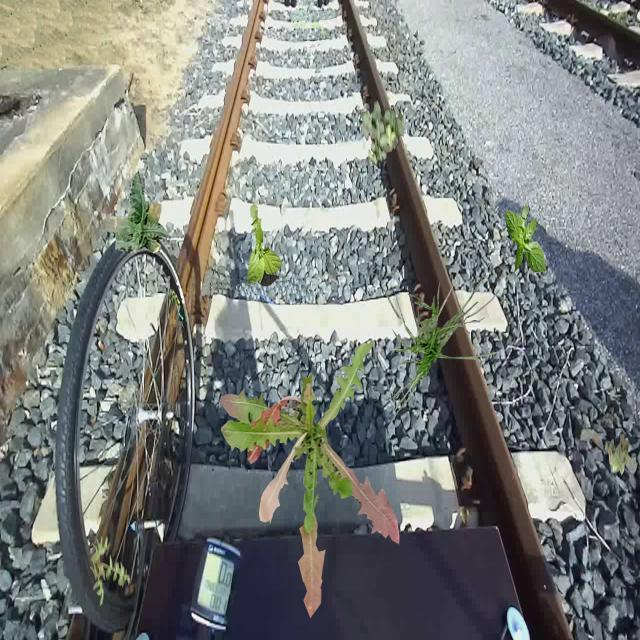Plant: (220, 341, 400, 619), (381, 258, 499, 422), (105, 171, 168, 254), (90, 535, 132, 606), (505, 204, 546, 275), (247, 203, 282, 286), (361, 100, 404, 166), (605, 433, 631, 476)
